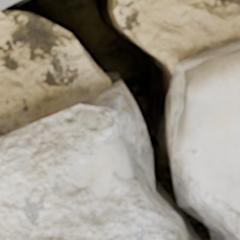brick: (0, 0, 15, 8)
broken_brick: (0, 83, 176, 239), (172, 40, 239, 239)
crack: (0, 0, 238, 239)
